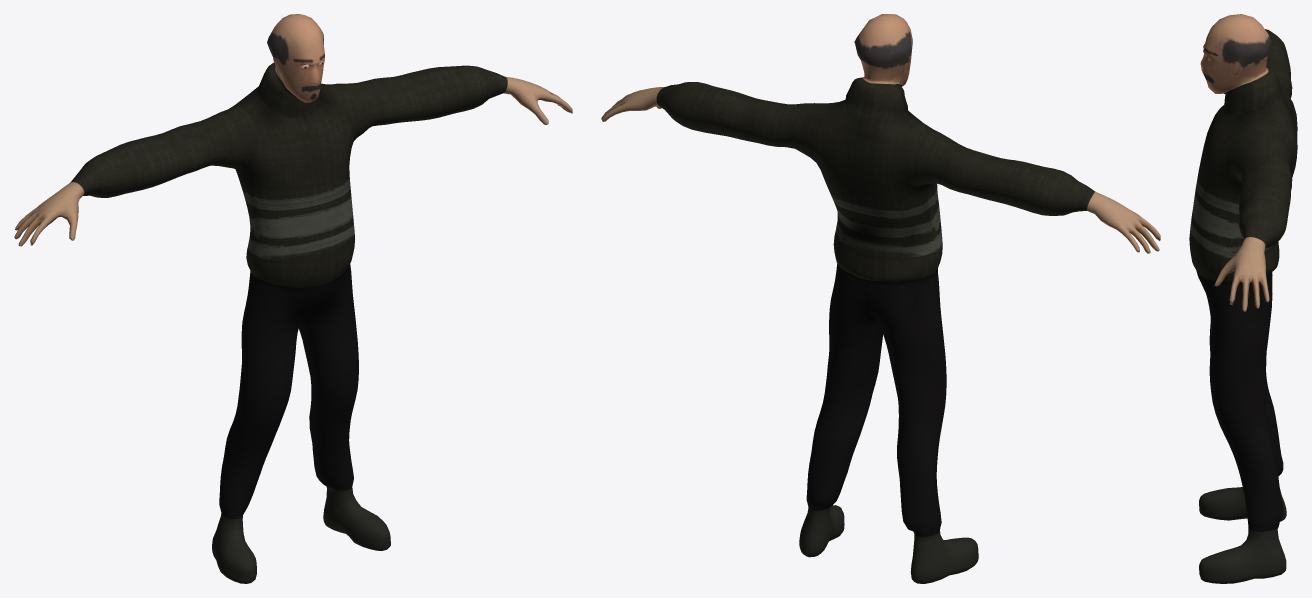
File: Slocnikas_05_LP.fbx
3 views of the same model, side by side, from view 1: azimuth 30°, elevation 25°; view 2: azimuth 150°, elevation 25°; view 3: azimuth 270°, elevation 25° (orthographic).
Visible parts, largest first — view 1: polySurface13; view 2: polySurface13; view 3: polySurface13.
Part boxes in pixels (x1,y1,x2,y2): polySurface13: (14, 14, 572, 583); polySurface13: (601, 14, 1160, 583); polySurface13: (1189, 14, 1297, 583).
Bounding box in the file's own units: 1.75 × 1.63 × 0.3007.
Materials: 1 (1 with a texture image).
